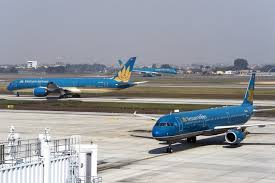maybay_dansu: (145, 73, 274, 149), (7, 62, 141, 101), (119, 59, 180, 82)
